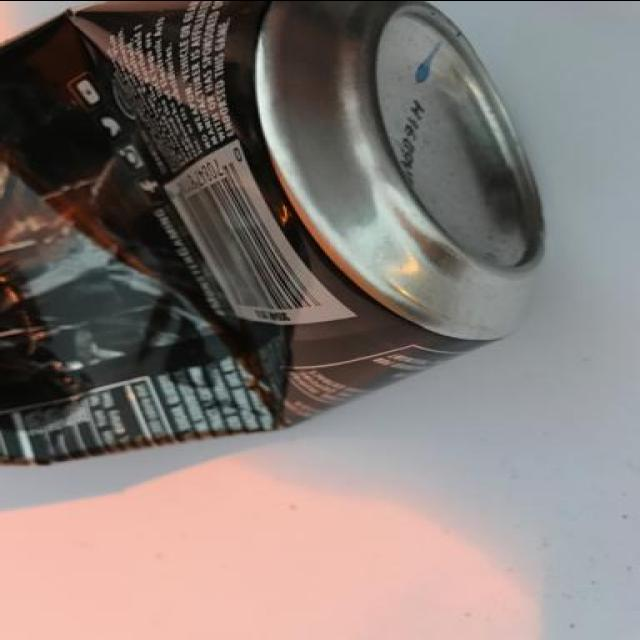Aluminum Can: (0, 1, 502, 514)
